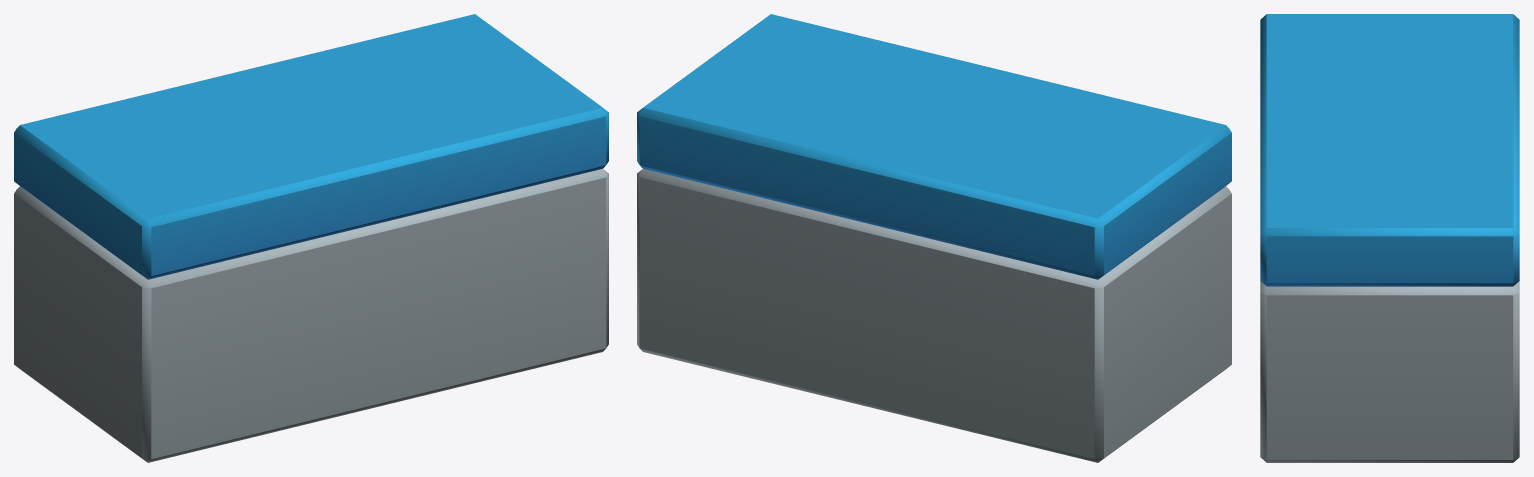
The model's file is platform_4x2x2_blue.obj.
3 renders of one model, left to right at view 1: azimuth 30°, elevation 25°; view 2: azimuth 150°, elevation 25°; view 3: azimuth 270°, elevation 25°, orthographic. The views are drawn at different scales.
Parts seen in each view (by area): view 1: platform_4x2x2_blue; view 2: platform_4x2x2_blue; view 3: platform_4x2x2_blue.
Part boxes in pixels (bbox=[...]): platform_4x2x2_blue: bbox=[14, 14, 608, 462]; platform_4x2x2_blue: bbox=[637, 14, 1231, 462]; platform_4x2x2_blue: bbox=[1260, 14, 1519, 462].
Bounding box in the file's own units: 4 × 2 × 2.
